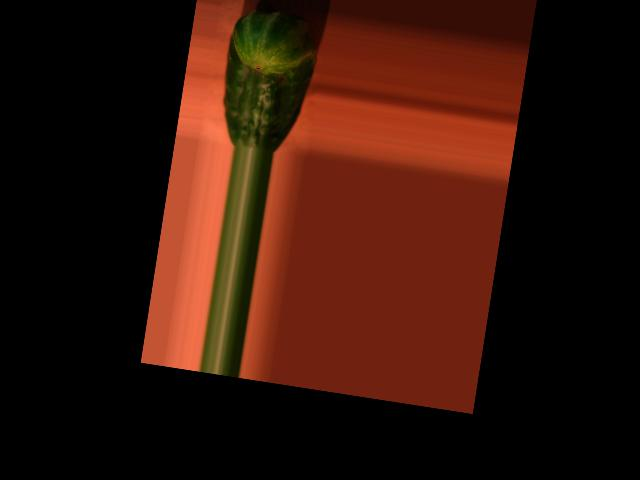cucumber: (213, 5, 321, 156)
